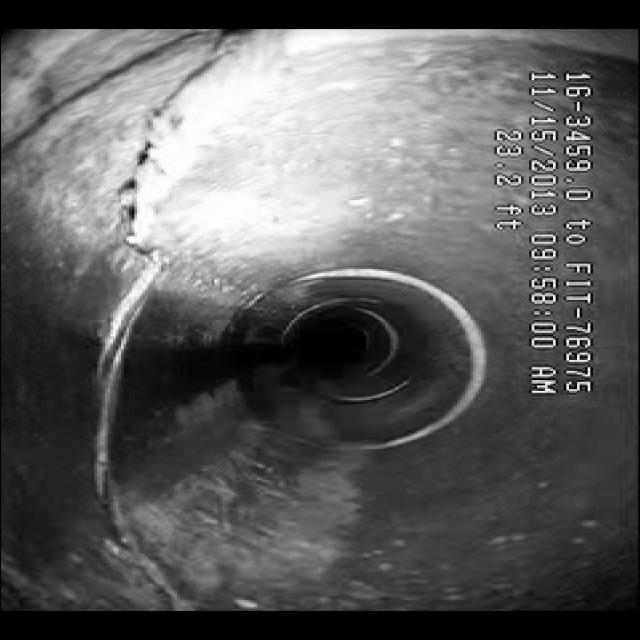Fracture: (40, 44, 252, 588)
